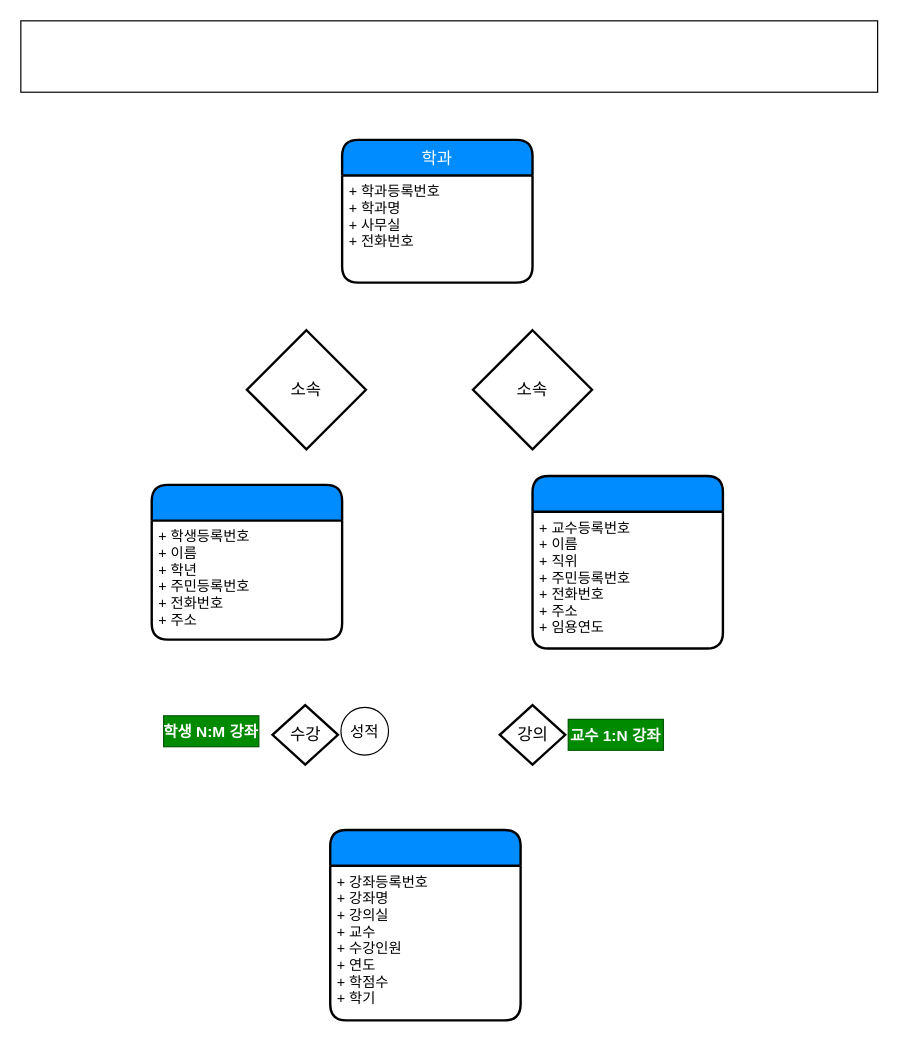
This 898x1042 diagram has some shape labels left out. Here are the shapes that lost their labels. From the top down, the box of each, then its label:
(20, 20, 878, 92): 한국대학교 학사관리 DATABASE SYSTEM
(150, 483, 343, 640): 학생
(531, 474, 724, 649): 교수
(328, 828, 521, 1021): 강좌
